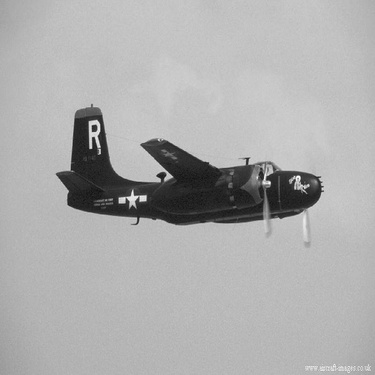airplane: (36, 92, 338, 250)
